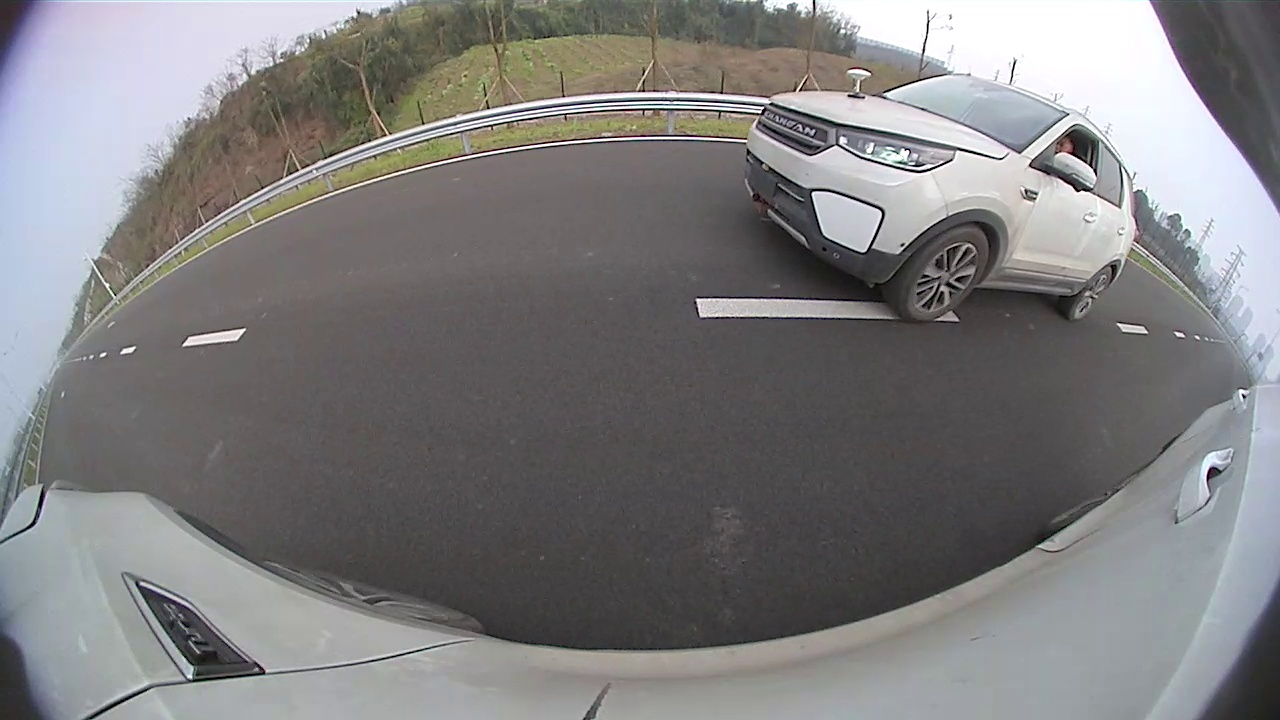car: (743, 67, 1139, 325)
front: (896, 228, 988, 320)
rear: (1064, 266, 1114, 319)
